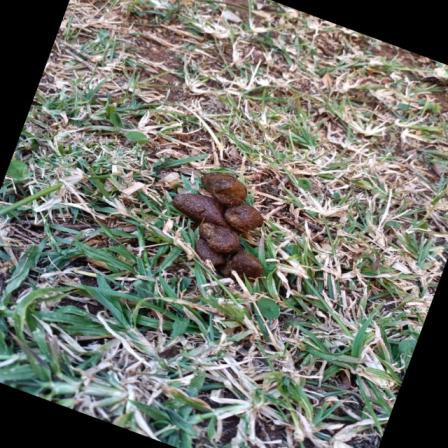dog-poop: (168, 162, 278, 286)
